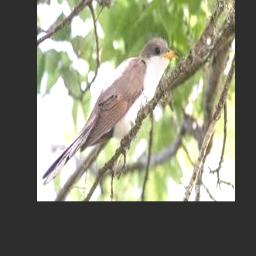Cuckoo: (42, 39, 181, 186)
